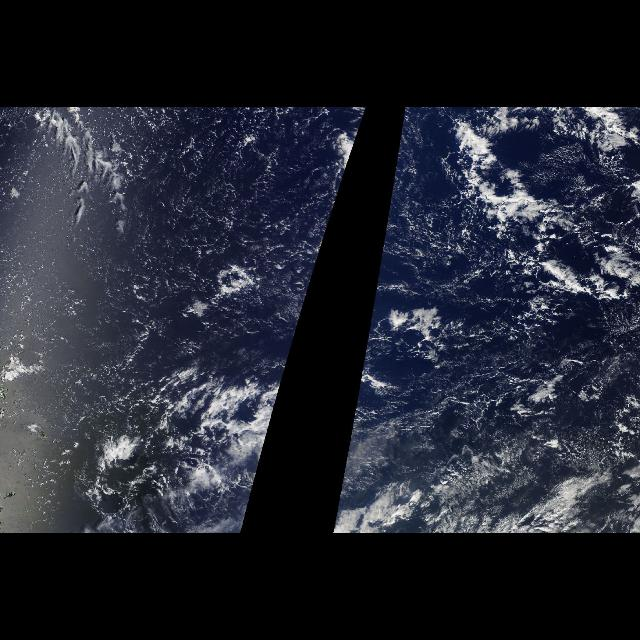Gravel: (5, 116, 365, 427), (351, 116, 639, 427)
